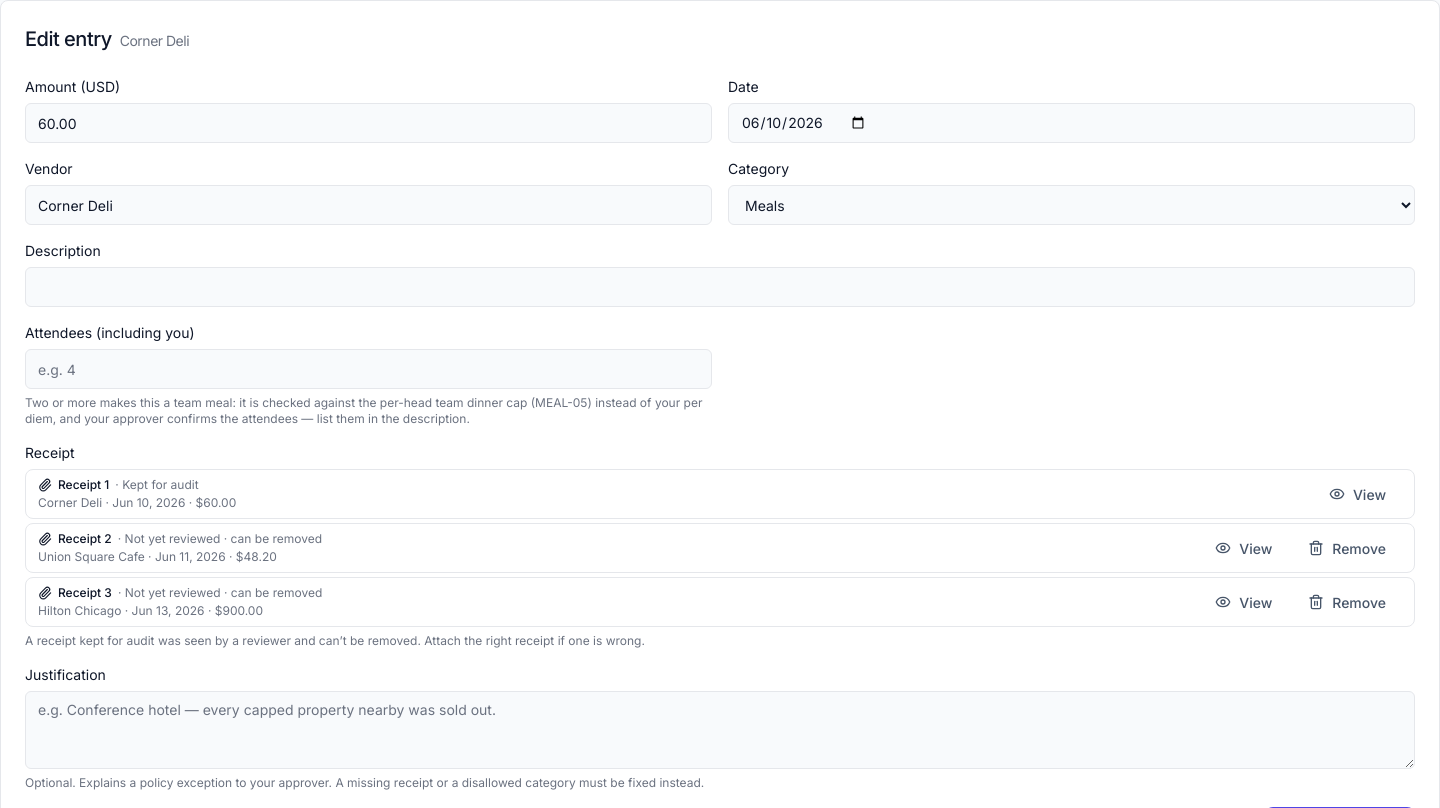
it: the entry editor's receipt list (defect H) › View opens the receipt through the scoped signed link
Click the button "View" in the row of "Receipt 3" at (1244, 602), box [1199, 584, 1288, 620]
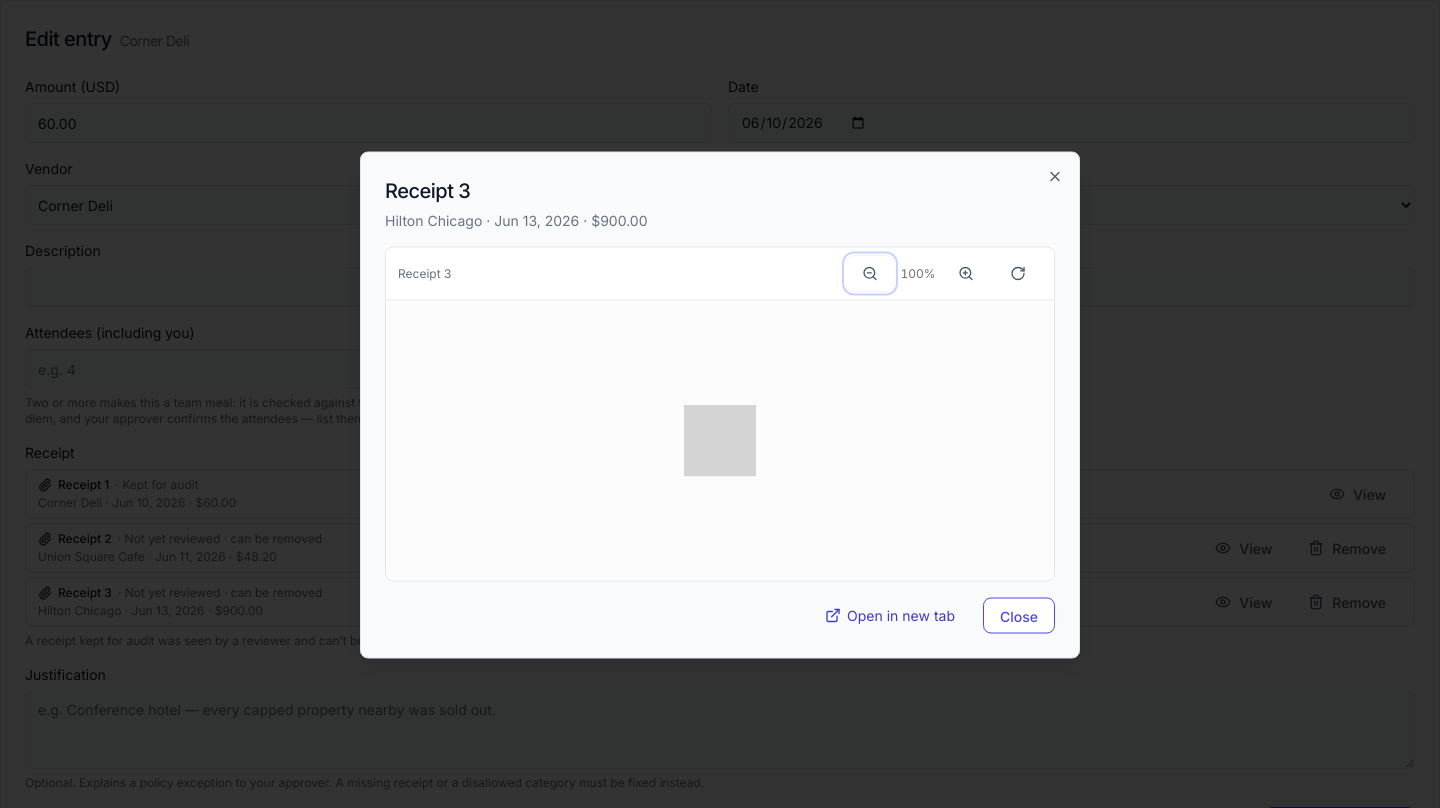
Expected: the dialog "Receipt 3" shows "Hilton Chicago", [385, 212, 648, 228]
